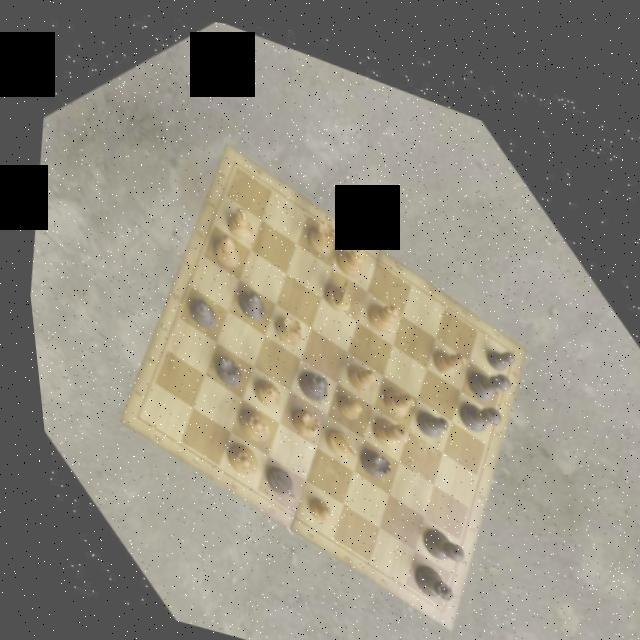chess-table-corners: (102, 376, 165, 440), (408, 560, 459, 611), (213, 132, 263, 183), (478, 308, 524, 356)
